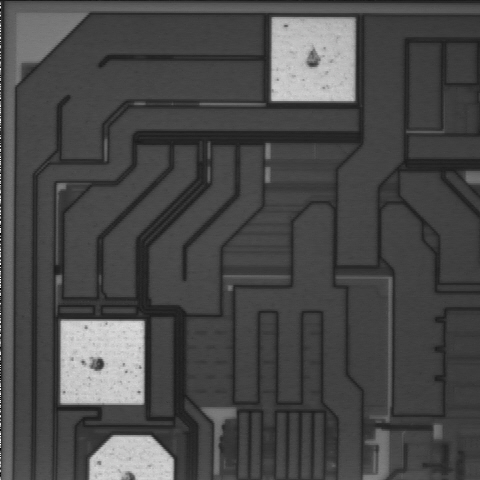pad: (61, 321, 144, 404), (272, 19, 354, 101)
